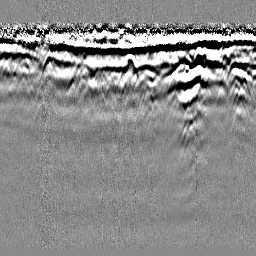cavity: (118, 53, 138, 83)
